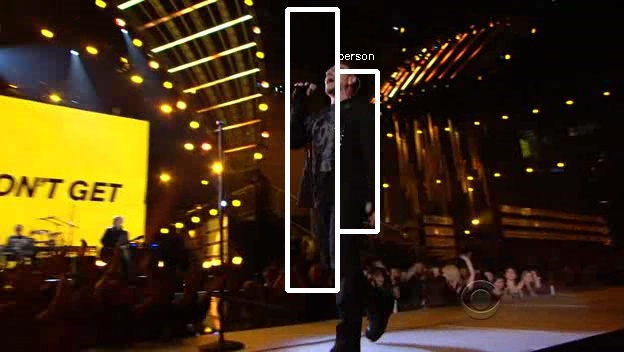person: (294, 62, 374, 228), (291, 62, 371, 228), (297, 62, 377, 228), (294, 59, 374, 225), (294, 65, 374, 231)
target_negative: (405, 114, 494, 280), (568, 45, 614, 313), (552, 76, 585, 225), (564, 162, 588, 342), (476, 158, 479, 265), (465, 351, 502, 352)
